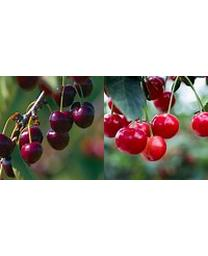cherry: (114, 126, 147, 155), (138, 136, 167, 162), (71, 101, 96, 130), (151, 114, 180, 139), (45, 129, 70, 152), (50, 110, 74, 133), (21, 142, 43, 164), (20, 128, 43, 149), (190, 111, 207, 138), (146, 78, 164, 100), (53, 86, 75, 104)
